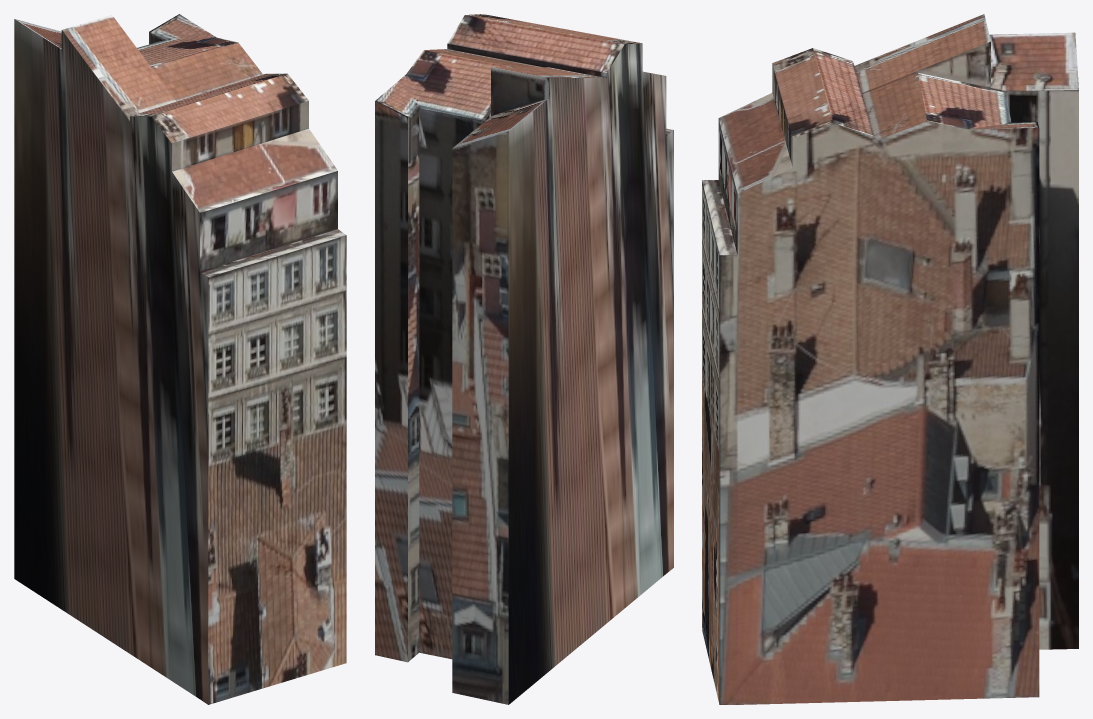
The picture shows the model from 3 angles, left to right: view 1: azimuth 30°, elevation 25°; view 2: azimuth 150°, elevation 25°; view 3: azimuth 270°, elevation 25°; orthographic projection. The views are drawn at different scales.
Visible parts, largest first — view 1: Z_UP; view 2: Z_UP; view 3: Z_UP.
Part boxes in pixels (left/top/right/bottom): Z_UP: left=14, top=14, right=346, bottom=704; Z_UP: left=375, top=14, right=673, bottom=704; Z_UP: left=702, top=14, right=1078, bottom=704.
Bounding box in the file's own units: 8.98 × 30.55 × 17.12.
2 materials, 1 textured.
